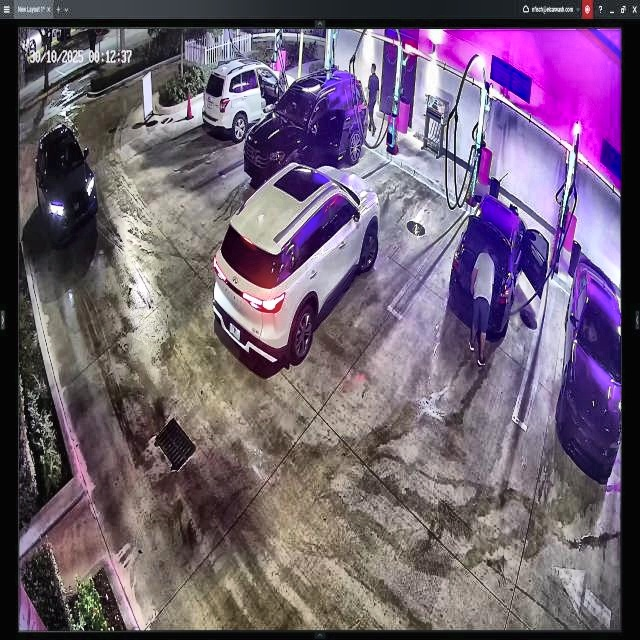Car: (212, 164, 380, 365), (247, 69, 366, 190), (452, 190, 547, 335)
